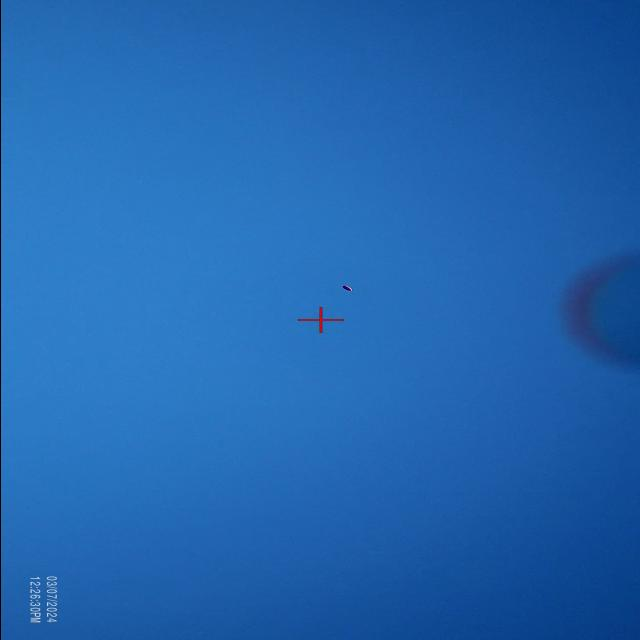entire: (336, 279, 362, 297)
